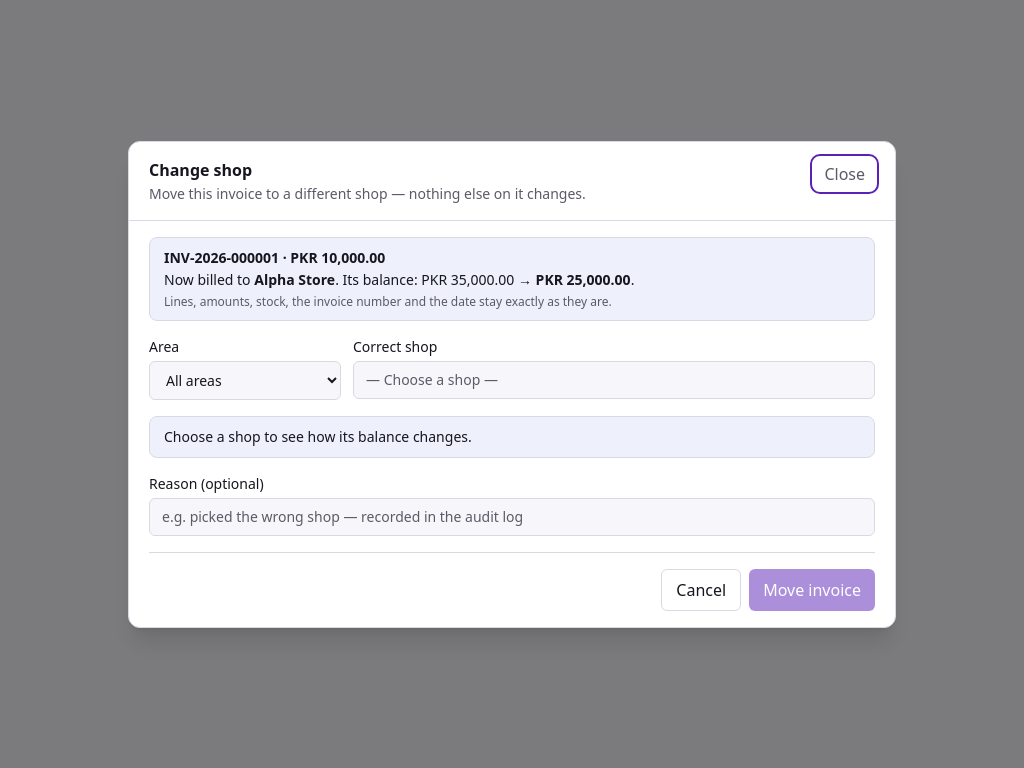
Change shop › choosing a different shop shows its balance now → after and enables the move
Click the dropdown named "Correct shop": (614, 380) [353,360,875,398]
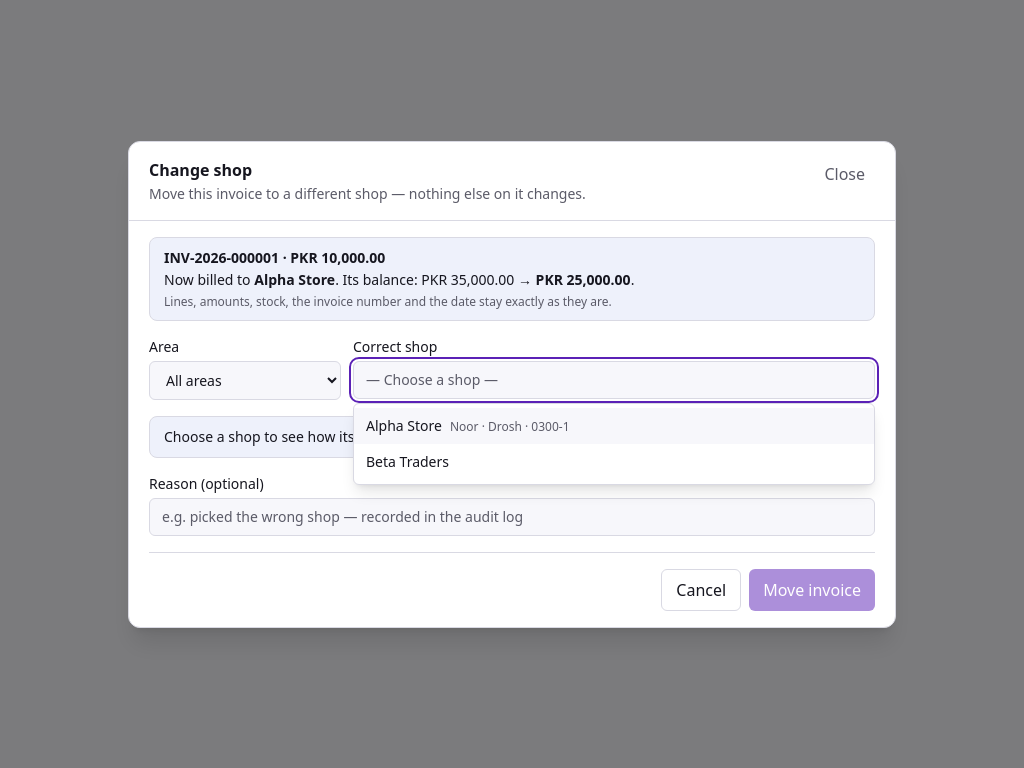
Click the option "Beta Traders": (408, 461) [366,452,449,470]
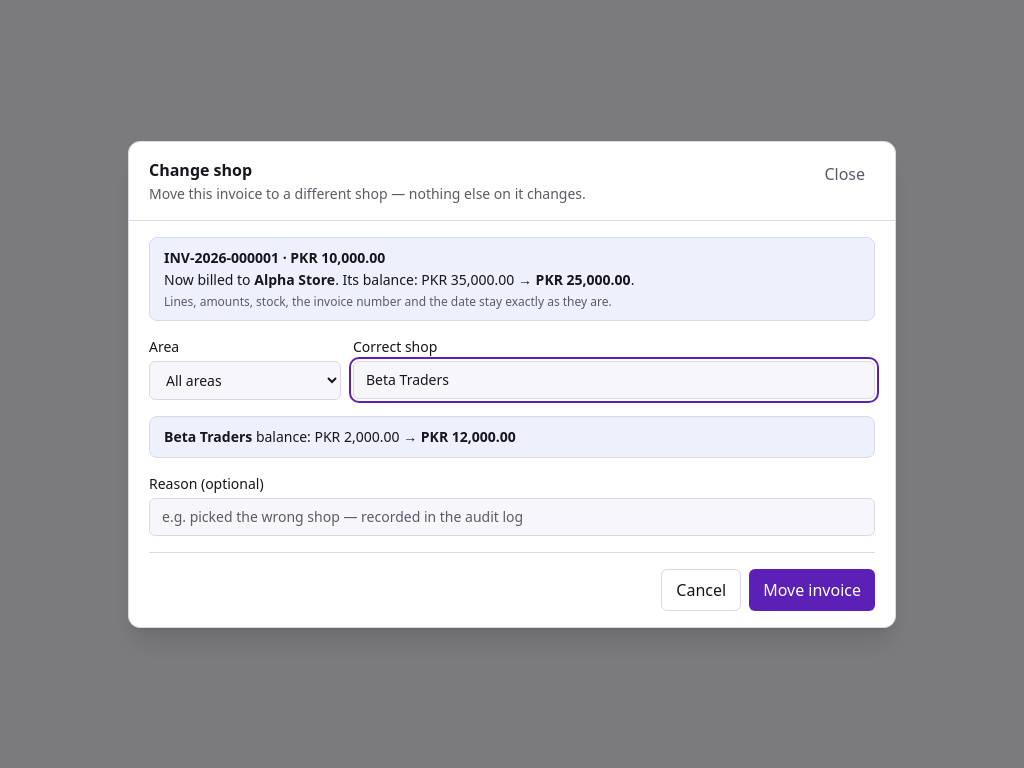
Expected: the text with test id "cs-new-now" reads "PKR 2,000.00", [314,426,400,446]
Expected: the text with test id "cs-new-after" reads "PKR 12,000.00", [421,426,516,446]
Expected: the button "Move invoice" is enabled, [749,568,875,610]
